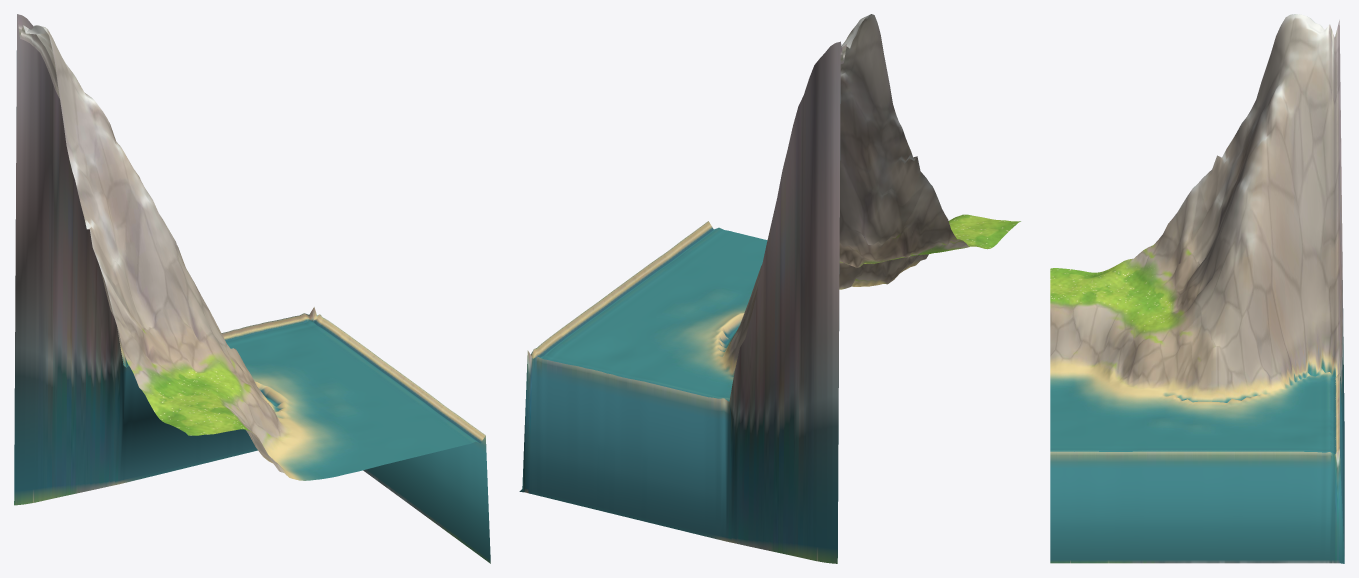
3 renders of one model, left to right at view 1: azimuth 30°, elevation 25°; view 2: azimuth 150°, elevation 25°; view 3: azimuth 270°, elevation 25°, orthographic. The views are drawn at different scales.
Visible parts, largest first — view 1: t192_192; view 2: t192_192; view 3: t192_192.
Boxes of the visible parts, bbox=[...] form: t192_192: bbox=[14, 14, 490, 563]; t192_192: bbox=[519, 14, 1020, 563]; t192_192: bbox=[1050, 14, 1344, 563].
Bounding box in the file's own units: 64 × 102 × 64.
1 material, 1 textured.
